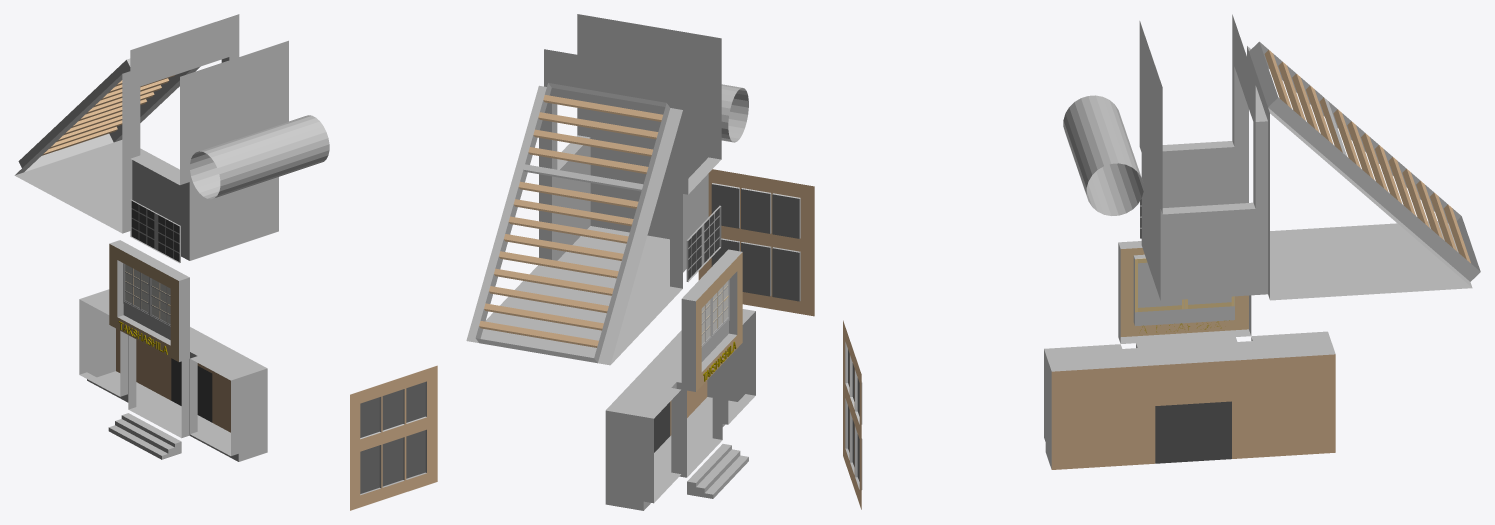
File: Takshshilla.glb
3 renders of one model, left to right at view 1: azimuth 30°, elevation 25°; view 2: azimuth 150°, elevation 25°; view 3: azimuth 270°, elevation 25°, orthographic. The views are drawn at different scales.
Parts seen in each view (by area): view 1: skp; view 2: skp; view 3: skp.
Part boxes in pixels (x1,y1,x2,y2): skp: (14,14,437,510); skp: (466,14,814,510); skp: (843,14,1480,509).
Size of the model in its own units: 8.64 by 18 by 23.68.
